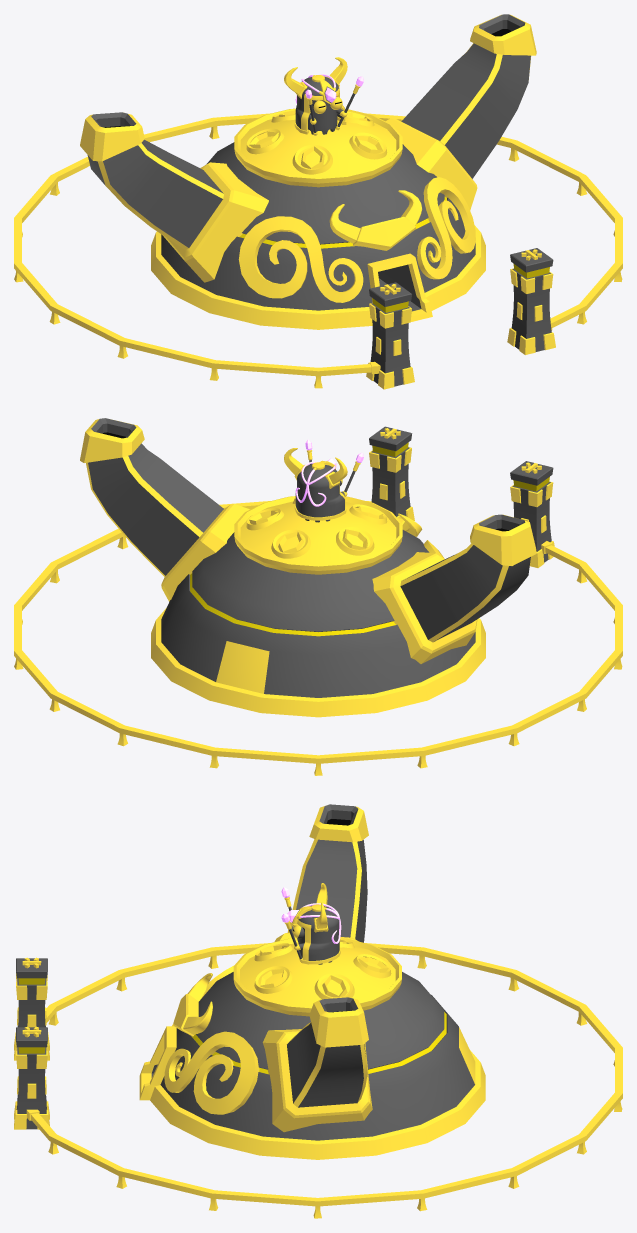
The model's file is mage_chamber_gltr.fbx.
3 renders of one model, top to bottom at view 1: azimuth 30°, elevation 25°; view 2: azimuth 150°, elevation 25°; view 3: azimuth 270°, elevation 25°, orthographic.
Visible parts, largest first — view 1: mage_chamber_gltr, hornexhausts, emblems, fence, posts_GLTR, gotchi_aadept, deets, horns, body; view 2: mage_chamber_gltr, hornexhausts, fence, posts_GLTR, emblems, gotchi_aadept, horns; view 3: mage_chamber_gltr, hornexhausts, fence, emblems, posts_GLTR, gotchi_aadept.
Boxes of the visible parts, <box> form: mage_chamber_gltr: <box>151,119,485,329</box>; hornexhausts: <box>80,14,536,282</box>; emblems: <box>234,108,475,302</box>; fence: <box>14,113,622,388</box>; posts_GLTR: <box>366,248,555,389</box>; gotchi_aadept: <box>294,75,346,134</box>; deets: <box>307,84,360,135</box>; horns: <box>284,57,347,98</box>; body: <box>308,96,337,134</box>; mage_chamber_gltr: <box>151,501,485,717</box>; hornexhausts: <box>80,418,536,663</box>; fence: <box>14,501,622,775</box>; posts_GLTR: <box>369,426,554,567</box>; emblems: <box>234,496,443,570</box>; gotchi_aadept: <box>294,460,346,520</box>; horns: <box>284,448,347,488</box>; mage_chamber_gltr: <box>139,943,485,1159</box>; hornexhausts: <box>262,804,372,1132</box>; fence: <box>26,943,622,1218</box>; emblems: <box>164,938,401,1114</box>; posts_GLTR: <box>14,957,49,1129</box>; gotchi_aadept: <box>293,904,340,964</box>.
Size of the model in its own units: 22.76 by 7.89 by 22.37.
